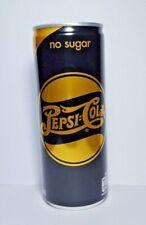metal: (34, 23, 108, 208)
